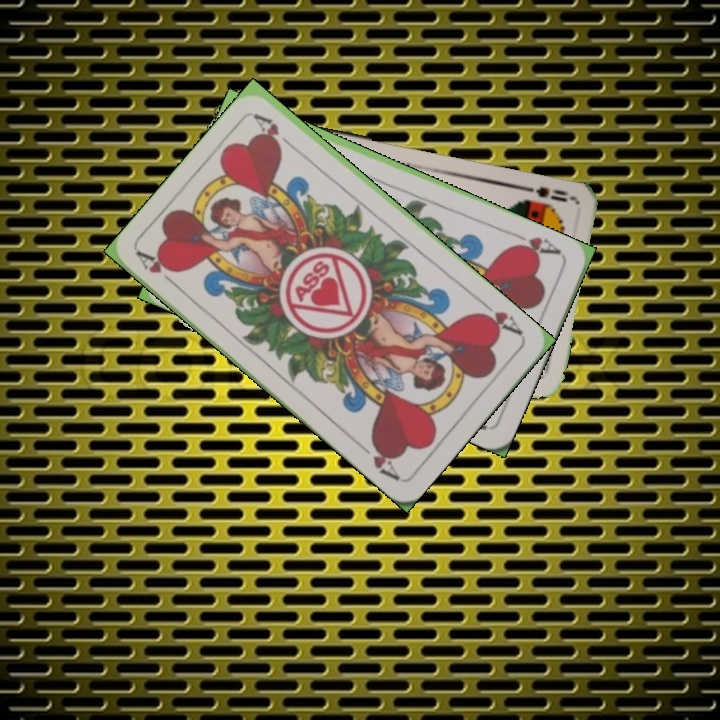HA: (473, 296, 526, 338), (134, 248, 183, 292), (507, 228, 564, 260)
SO: (516, 181, 575, 205)
